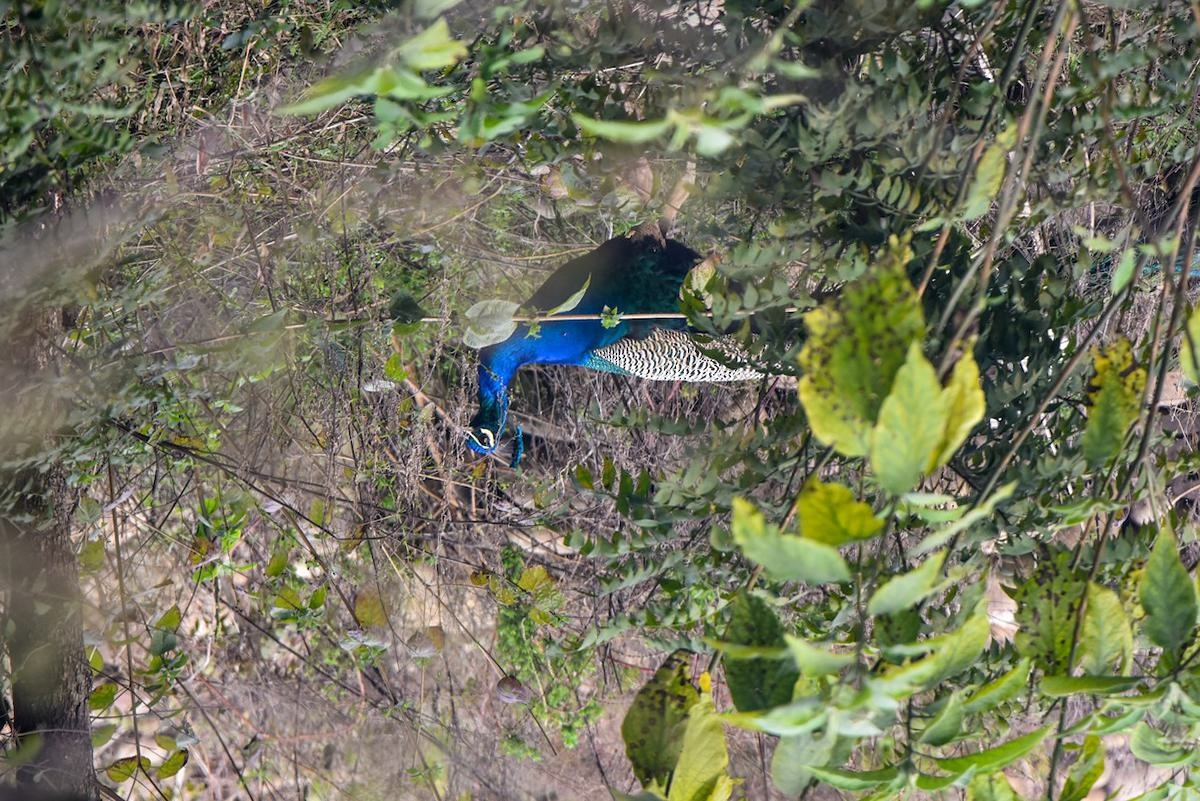peacock: (438, 198, 837, 482)
